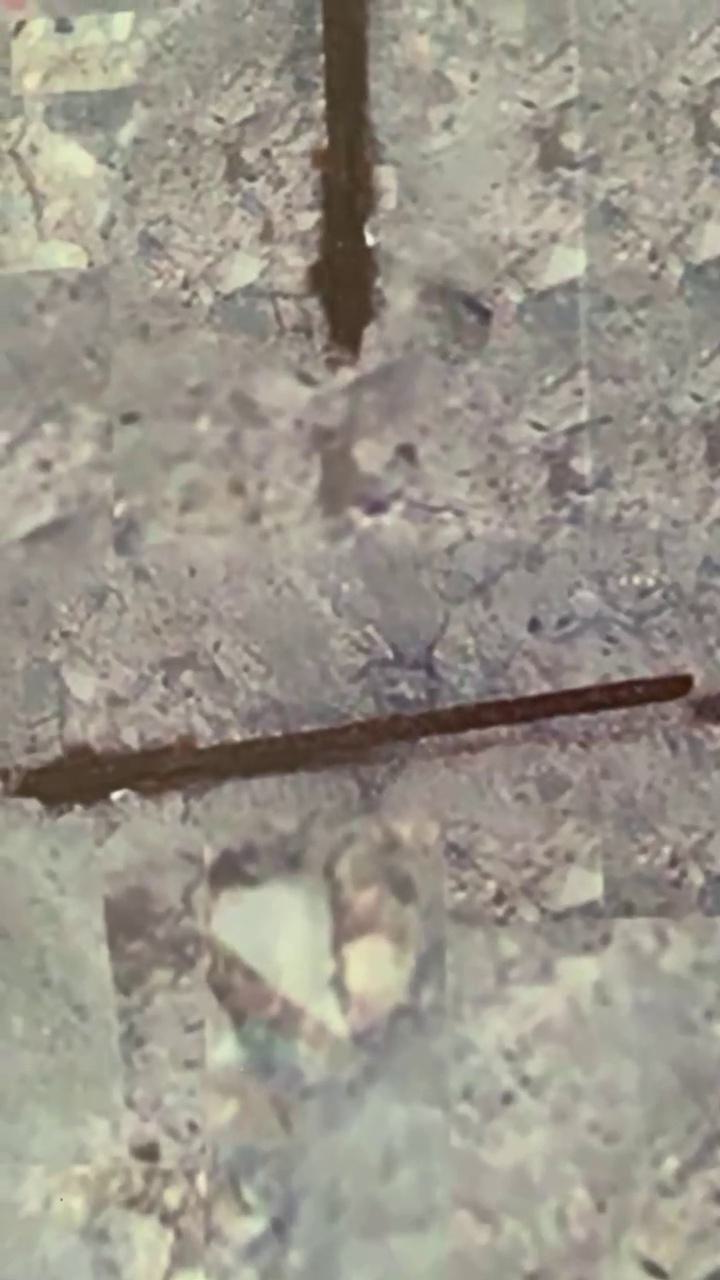Exposed reinforcement: (1, 671, 695, 802), (306, 1, 381, 358)
